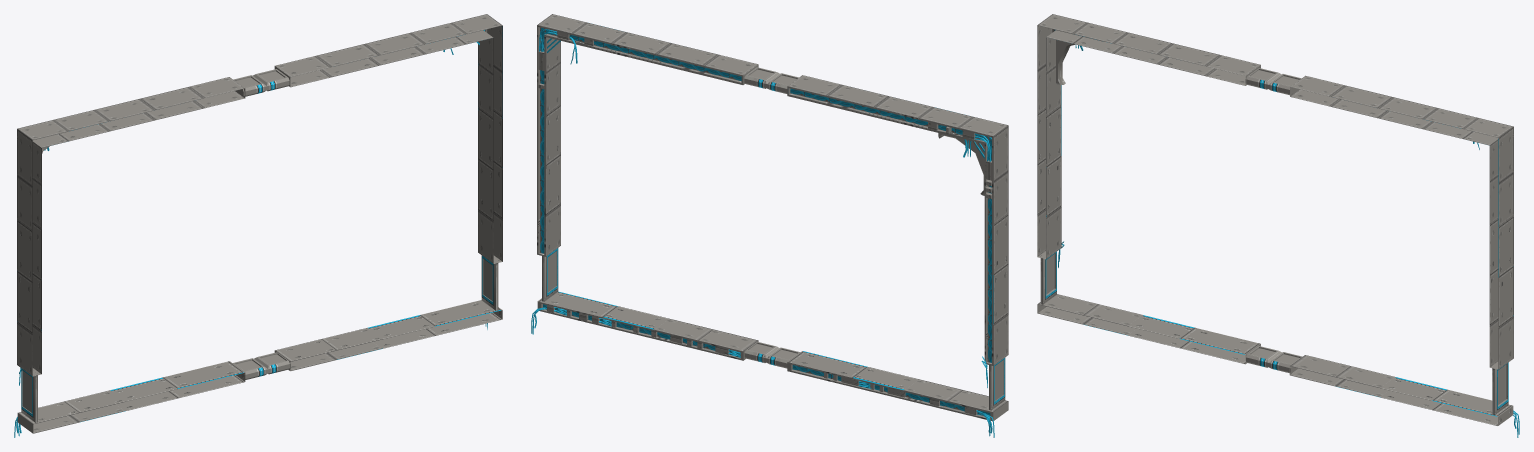
The model's file is BossRoomArenaFBX.fbx.
3 renders of one model, left to right at view 1: azimuth 30°, elevation 25°; view 2: azimuth 150°, elevation 25°; view 3: azimuth 330°, elevation 25°, orthographic. The views are drawn at different scales.
Parts seen in each view (by area): view 1: CornerBase, CornerBase5, wallPiece3, wallPiece2, TopDoorLeft (×2), LeftSideDoor, RightSideDoor; view 2: CornerBase, CornerBase5, wallPiece3, wallPiece2, TopDoorLeft (×2), LeftSideDoor, RightSideDoor; view 3: CornerBase5, CornerBase, wallPiece2, wallPiece3, TopDoorRight (×2), RightSideDoor, LeftSideDoor, Arch.
Boxes of the visible parts, x1,y1,x2,y2 form: CornerBase: (17, 77, 245, 376); CornerBase5: (274, 14, 502, 263); wallPiece3: (17, 361, 245, 433); wallPiece2: (274, 300, 502, 371); TopDoorLeft (×2): (253, 69, 290, 374); LeftSideDoor: (481, 255, 498, 310); RightSideDoor: (21, 368, 37, 422); CornerBase: (787, 75, 1008, 365); CornerBase5: (537, 14, 758, 256); wallPiece3: (787, 351, 1008, 421); wallPiece2: (537, 291, 758, 360); TopDoorLeft (×2): (744, 67, 779, 362); LeftSideDoor: (542, 248, 558, 301); RightSideDoor: (989, 358, 1005, 410); CornerBase5: (1290, 75, 1513, 369); CornerBase: (1037, 14, 1260, 259); wallPiece2: (1289, 355, 1513, 425); wallPiece3: (1037, 294, 1260, 364); TopDoorRight (×2): (1245, 68, 1281, 367); RightSideDoor: (1040, 251, 1056, 304); LeftSideDoor: (1492, 362, 1508, 415); Arch: (1055, 30, 1104, 84).
Bounding box in the file's own units: 52.51 × 33.63 × 3.71.
